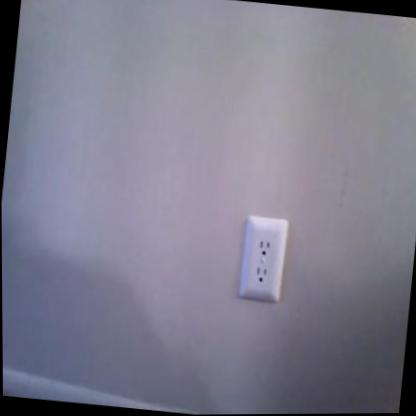OUTLET: (237, 214, 290, 304)
